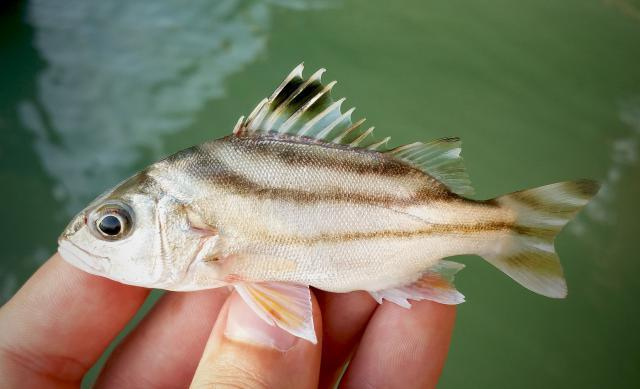Mulut: (49, 221, 113, 282)
Sirip Anal: (374, 256, 470, 316)
Sirip Ekor: (493, 164, 607, 304)
Sirip Perut: (238, 274, 324, 346)
Sirip Punggung: (230, 59, 478, 207)
